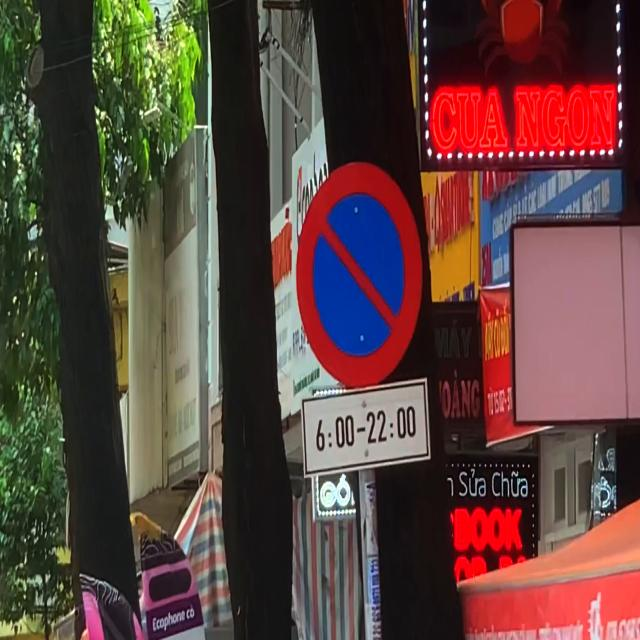Cam do: (296, 160, 423, 389)
